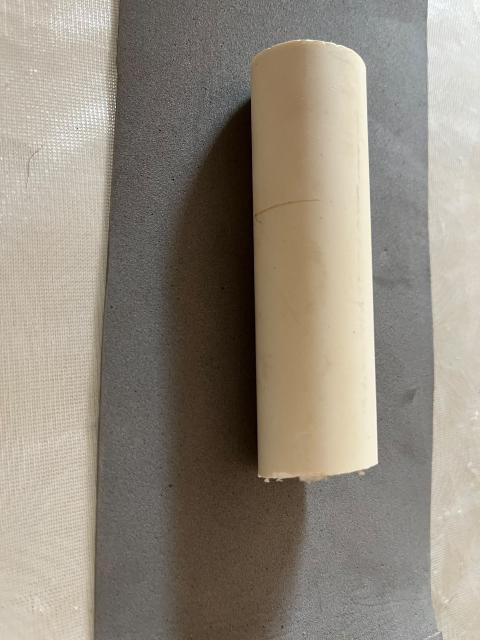PVC: (219, 12, 431, 538)
